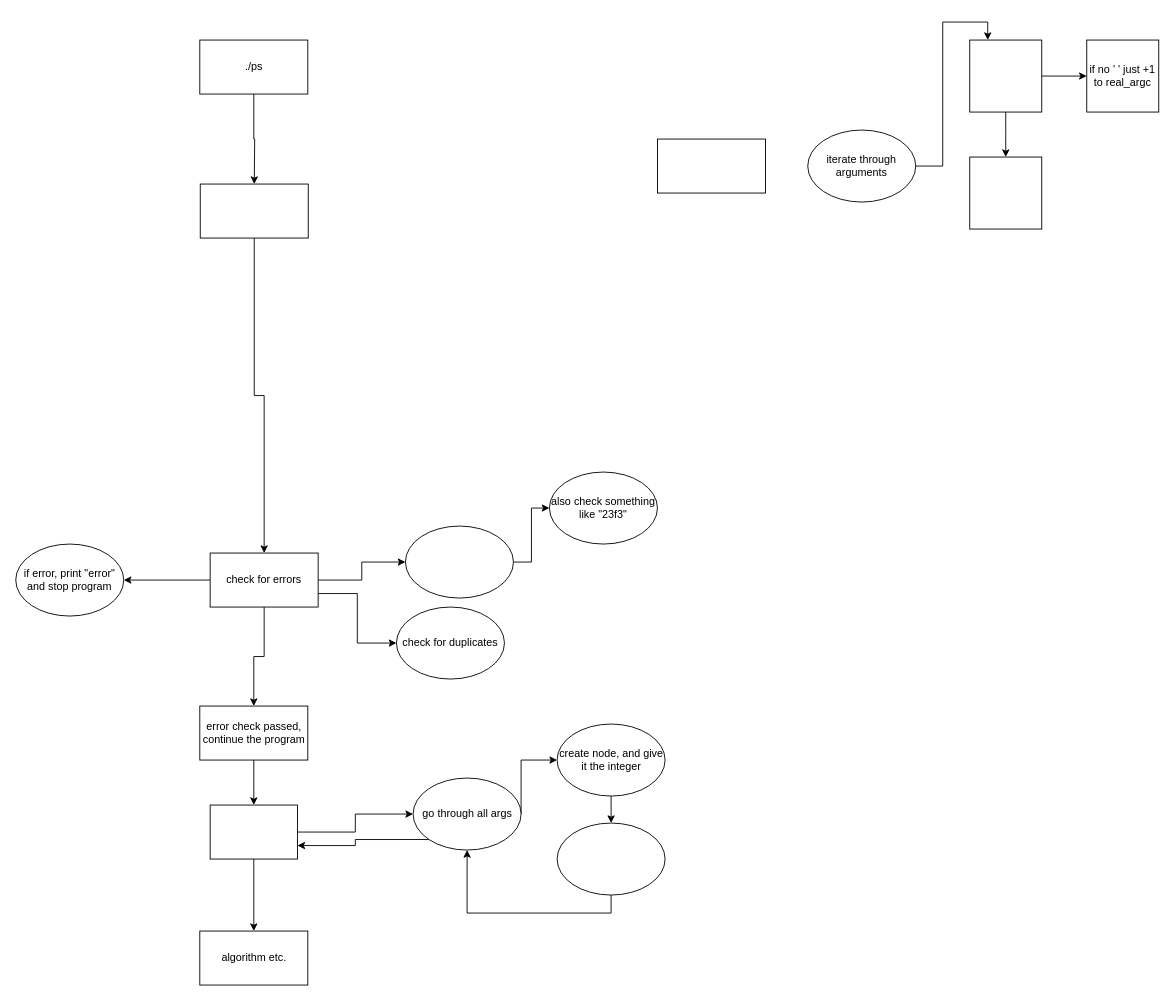
Image size: 1175x1001. Some labels were removed from this diagram. The centre of each missing label's shape, as x and y in pixels:
"break apart quotations marked strings into separate words" goes at (253,210).
"fill stack_a" goes at (253,831).
"how to handle strings with separate words in them" goes at (711,165).
"not an integer" goes at (459,561).
"push it to stack_a (either front or back)" goes at (610,858).
"use strchr and look for ' '" goes at (1005,75).
